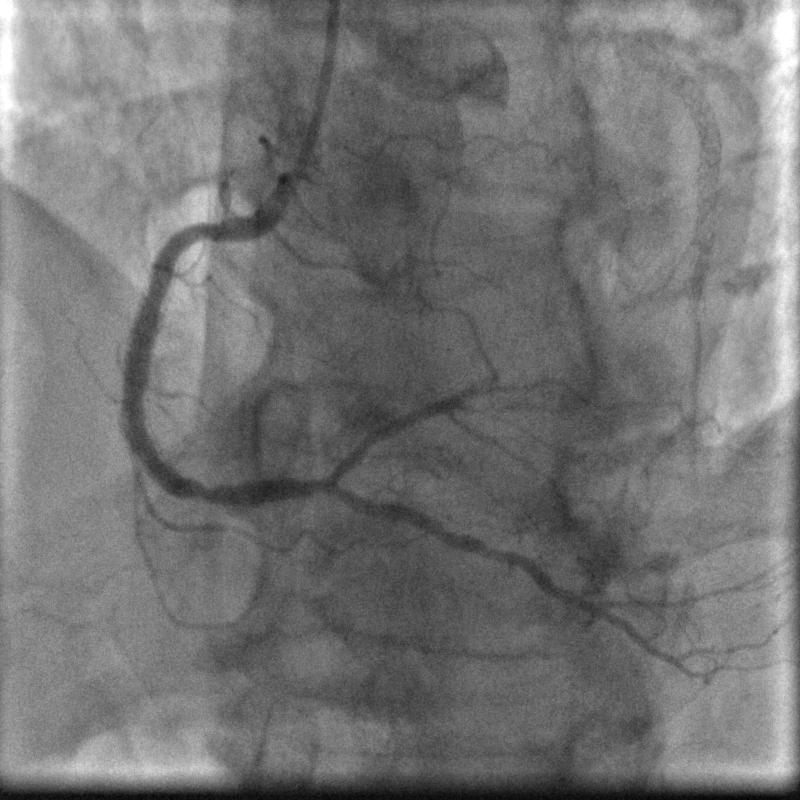Stenosis: (176, 210, 220, 252)
